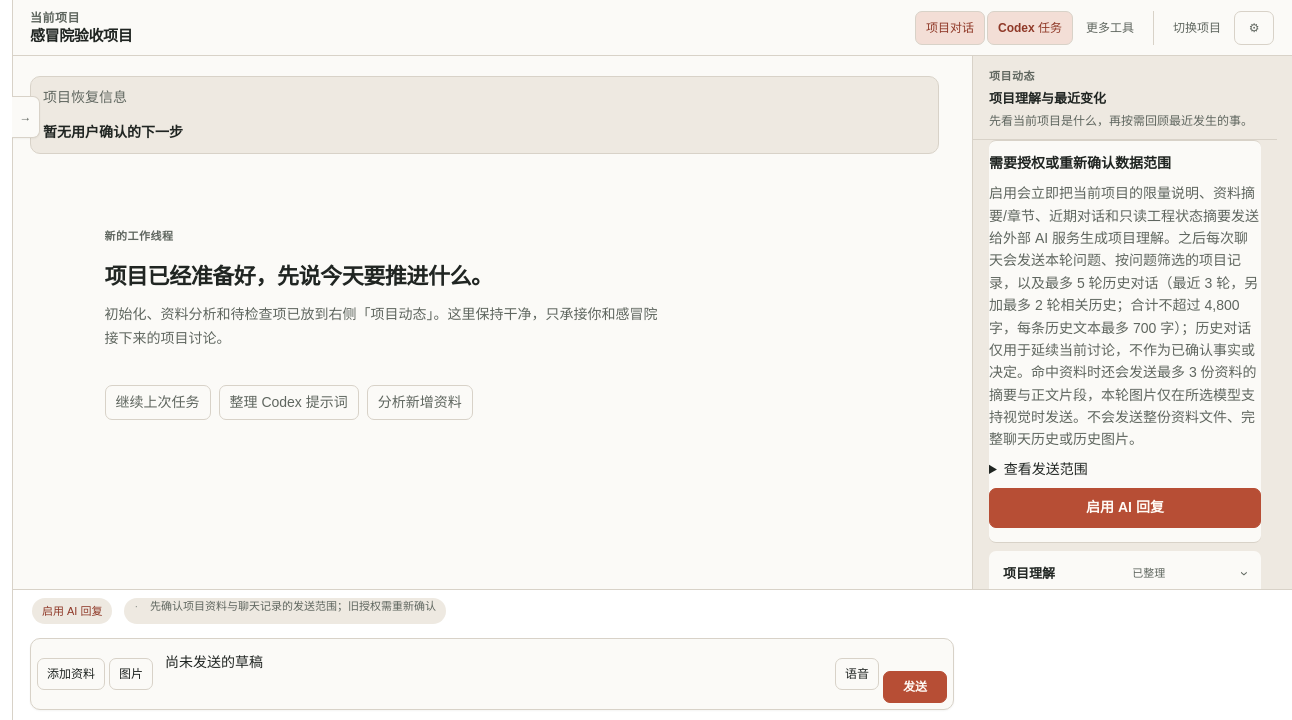
Test: project workspace persistence flow › keeps low-frequency work tools behind a More disclosure
Expected: the button "项目对话" is shown, top-left (915, 10), bottom-right (985, 44)
Step 1. Click the heading "更多工具" → {"x": 1110, "y": 28}, box top-left (1086, 20), bottom-right (1134, 34)
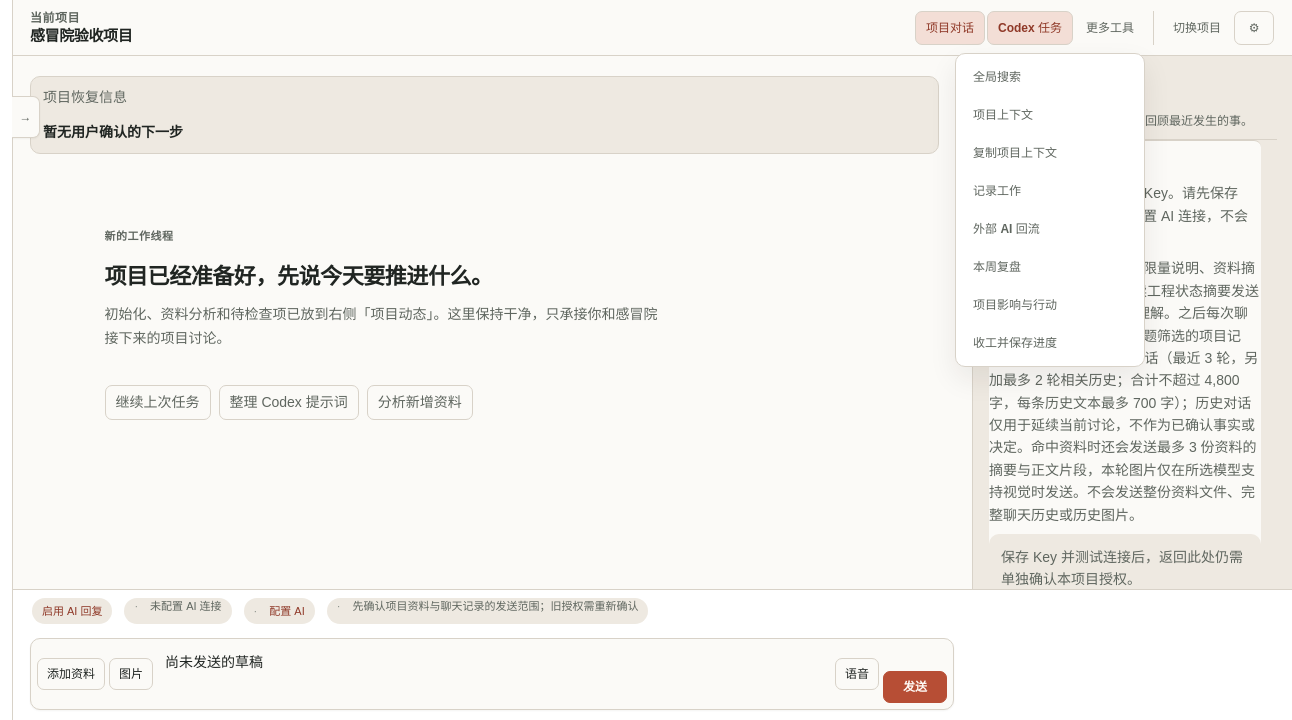
Expected: the button "本周复盘" is shown, top-left (962, 250), bottom-right (1138, 284)
Expected: the button "项目影响与行动" is shown, top-left (962, 288), bottom-right (1138, 322)
